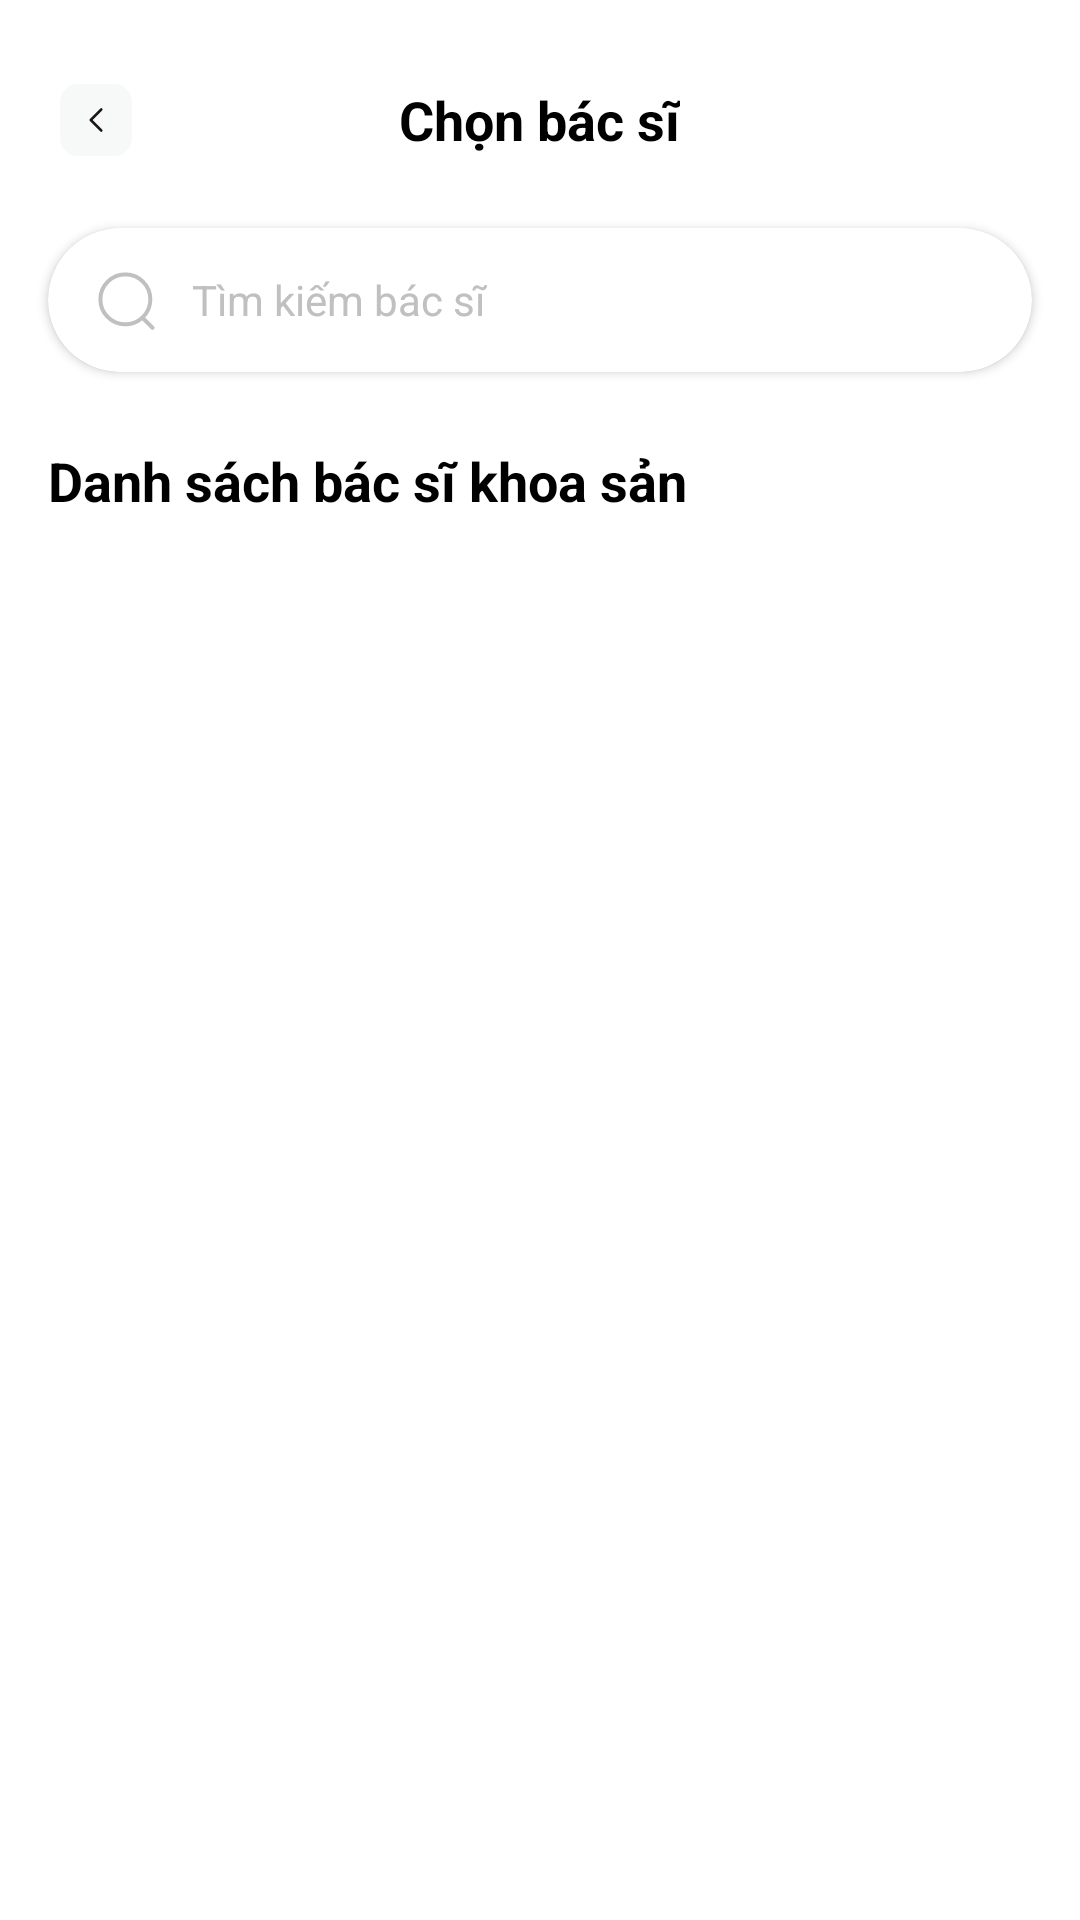

Where icons sit on this 1080px x 1920px app screen, as (x1, y1, x2, y2):
Back: (89, 108, 103, 132)
Search icon: (98, 272, 155, 330)
